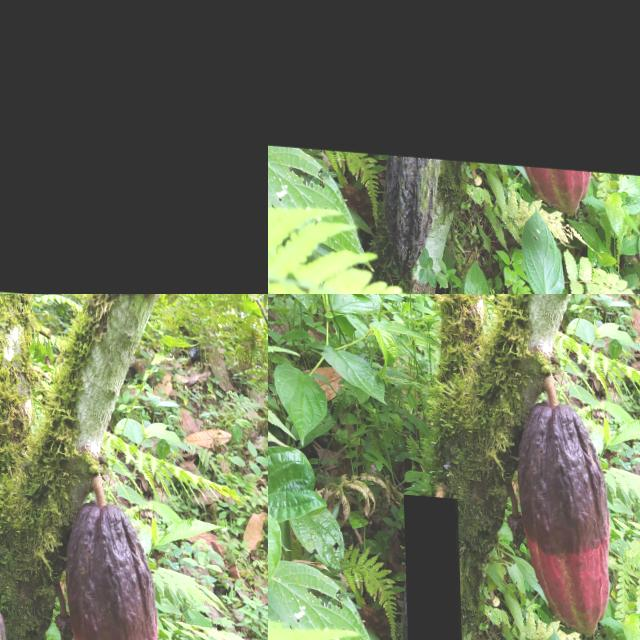Fitoftora: (268, 0, 640, 168), (514, 389, 611, 630), (401, 491, 460, 640)
Monilia: (0, 0, 268, 294)
